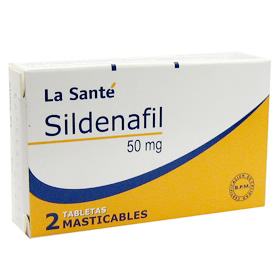LaSante: (29, 65, 268, 235)
